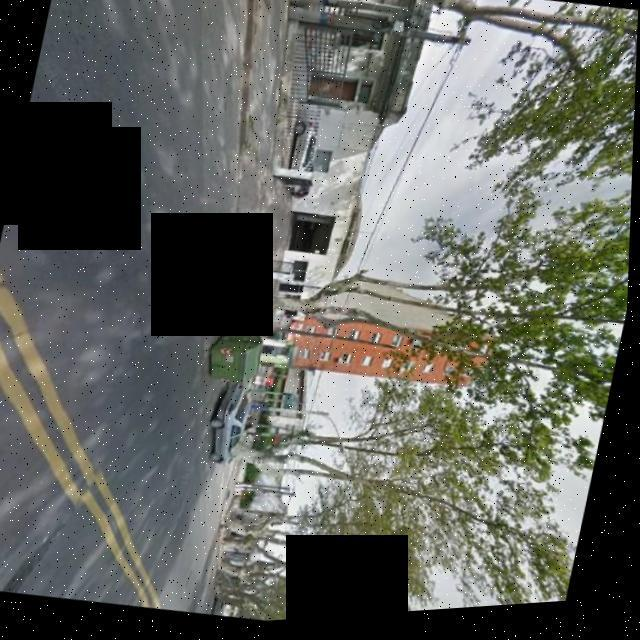bin: (203, 320, 274, 395)
